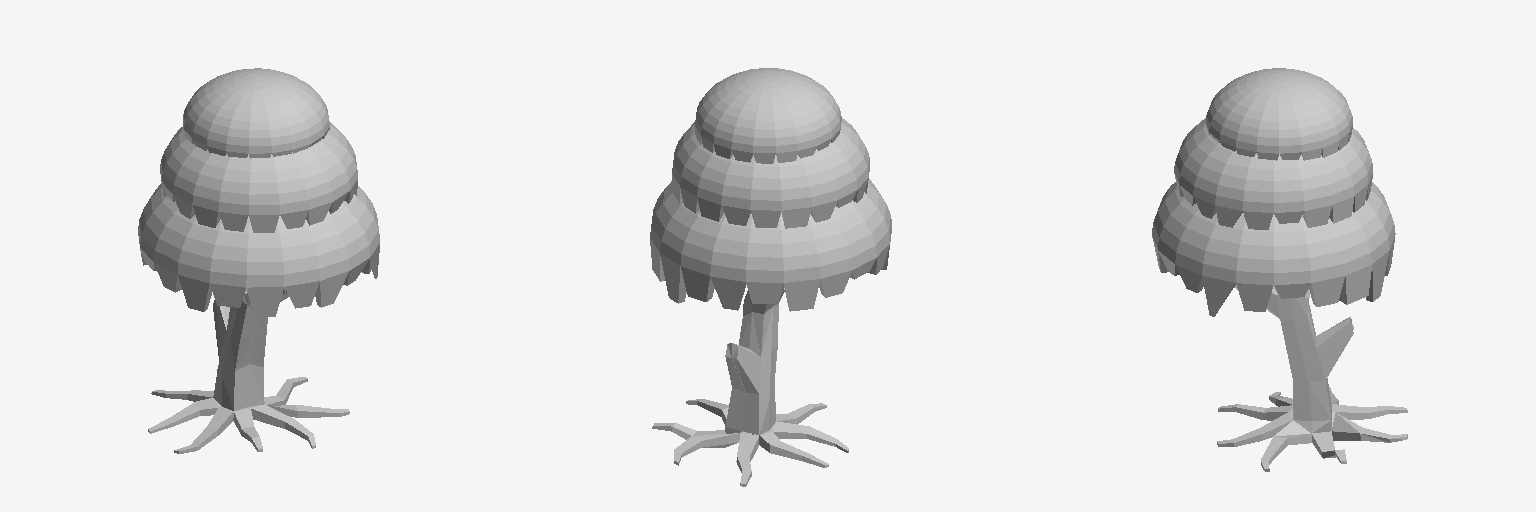
File: treeAeon.obj
3 views of the same model, side by side, from view 1: azimuth 30°, elevation 25°; view 2: azimuth 150°, elevation 25°; view 3: azimuth 270°, elevation 25° (orthographic).
Parts seen in each view (by area): view 1: pSphere2, pSphere1, pSphere3, pCube2; view 2: pSphere2, pSphere1, pSphere3, pCube2; view 3: pSphere2, pSphere1, pCube2, pSphere3.
Part boxes in pixels (x1,y1,x2,y2): pSphere2: (138,183,379,317); pSphere1: (160,121,357,232); pSphere3: (183,68,329,158); pCube2: (148,287,349,453); pSphere2: (650,179,891,311); pSphere1: (672,118,869,228); pSphere3: (695,68,841,163); pCube2: (652,284,848,486); pSphere2: (1152,182,1395,316); pSphere1: (1174,118,1372,229); pCube2: (1217,285,1407,471); pSphere3: (1205,68,1352,160).
Size of the model in its own units: 5.96 by 9.6 by 6.27.